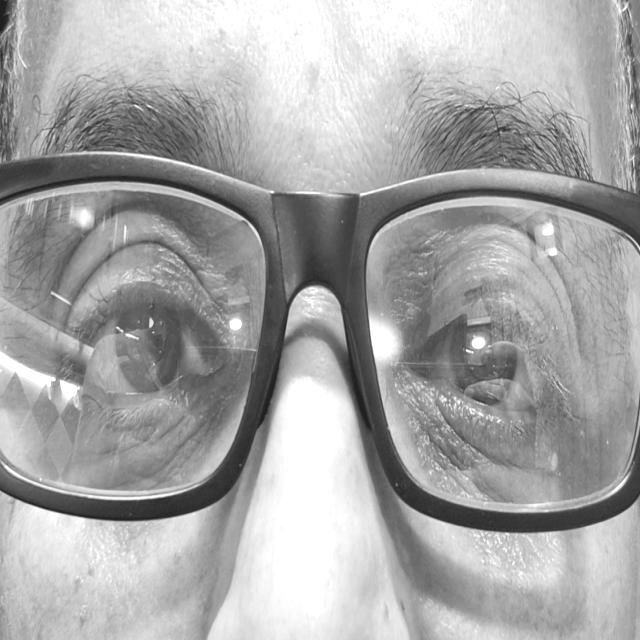real: (34, 76, 627, 604)
